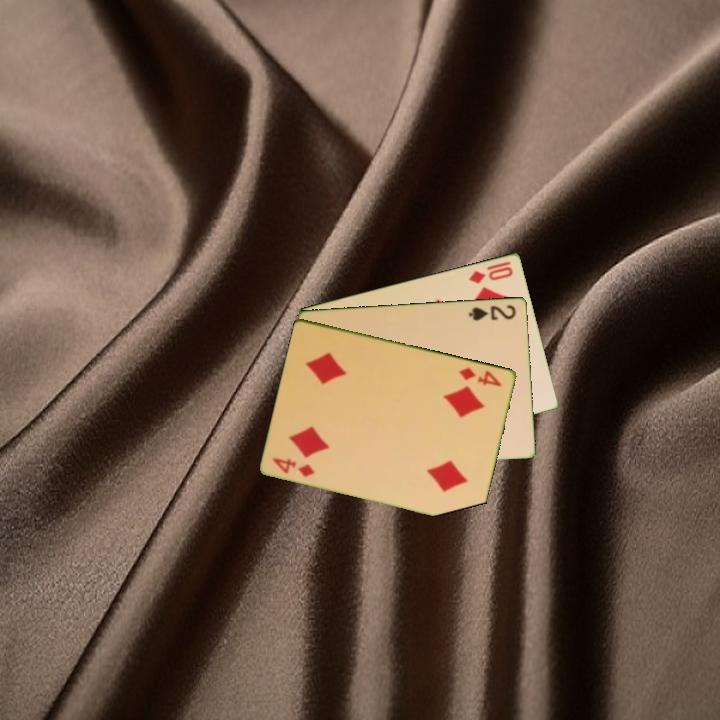10d: (465, 263, 516, 286)
2s: (465, 301, 519, 323)
4d: (456, 363, 505, 389), (269, 454, 318, 480)
